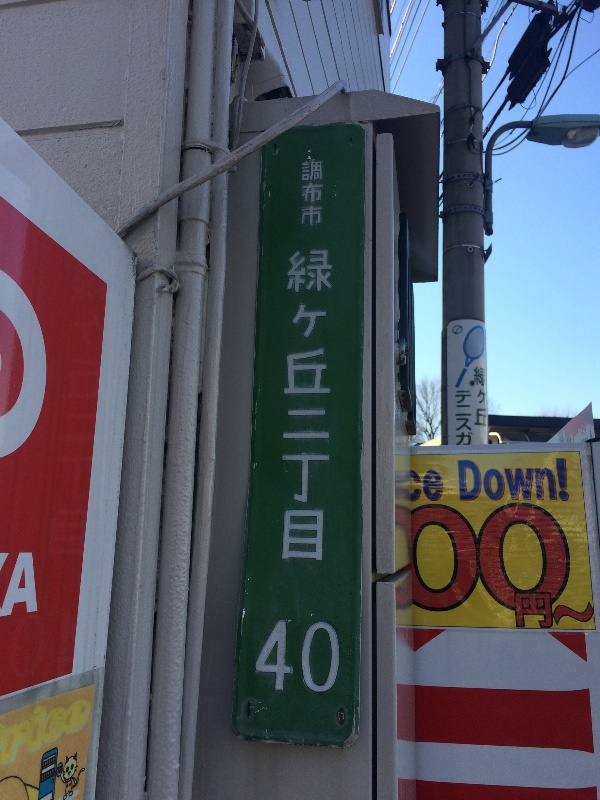text: (289, 251, 304, 564), (305, 251, 320, 564), (321, 251, 333, 564), (1, 268, 16, 462), (17, 268, 32, 462), (33, 268, 48, 462), (417, 504, 432, 613), (433, 504, 448, 613), (449, 504, 464, 613), (465, 504, 480, 613), (481, 504, 496, 613), (497, 504, 512, 613), (513, 504, 528, 613), (529, 504, 544, 613), (545, 504, 560, 613), (561, 504, 573, 613), (273, 617, 288, 697), (289, 617, 304, 697), (305, 617, 320, 697), (321, 617, 336, 697), (1, 693, 16, 771), (17, 693, 32, 771), (33, 693, 48, 771), (49, 693, 64, 771), (65, 693, 80, 771), (259, 617, 272, 697), (305, 161, 320, 226), (18, 551, 32, 620), (81, 693, 92, 771), (465, 458, 480, 502), (481, 458, 496, 502), (497, 458, 512, 502), (513, 458, 528, 502), (529, 458, 544, 502), (545, 458, 560, 502), (529, 592, 544, 629), (545, 592, 560, 629), (561, 592, 576, 629), (577, 592, 592, 629), (417, 468, 432, 504), (455, 389, 464, 448), (515, 592, 528, 629), (465, 389, 473, 448), (412, 504, 416, 613), (33, 551, 39, 620), (474, 367, 480, 429), (481, 367, 487, 429), (433, 468, 443, 504), (561, 458, 569, 502), (337, 617, 341, 697), (458, 458, 464, 502), (411, 468, 416, 504), (302, 161, 304, 226), (321, 161, 323, 226), (593, 592, 595, 629)
